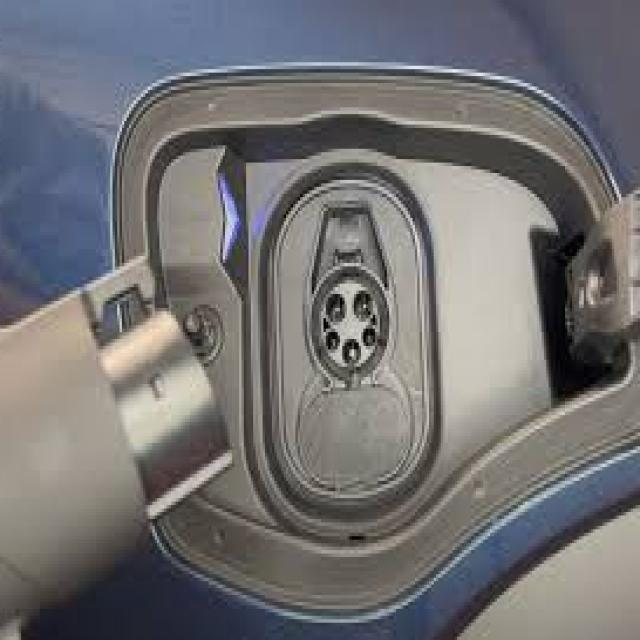CCS1: (256, 203, 448, 503)
